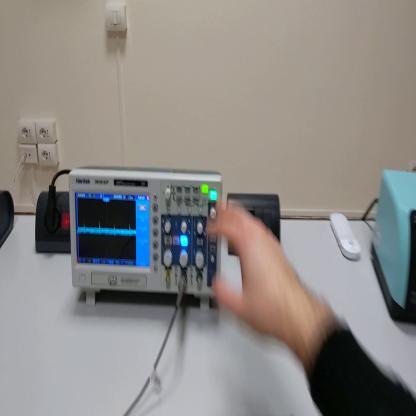hand: (206, 199, 297, 340)
oscilloscope: (69, 167, 224, 316)
socket: (36, 194, 72, 256), (2, 190, 16, 250)
welder station: (372, 169, 416, 325)
